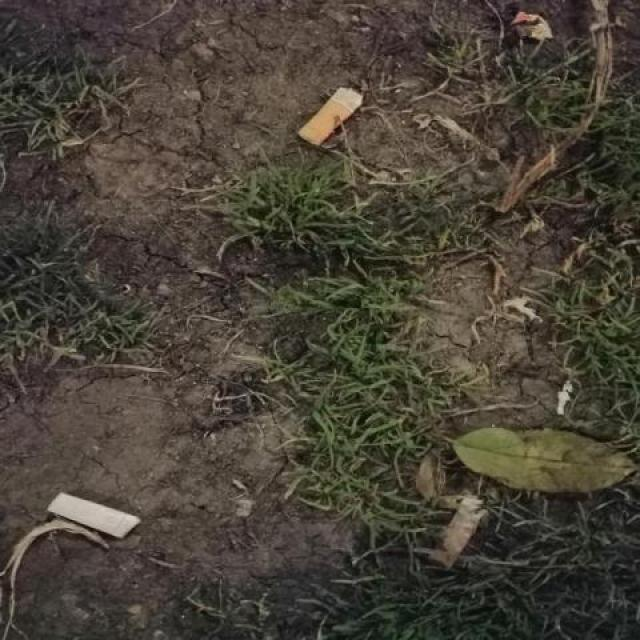non-organic waste: (43, 485, 145, 544), (292, 81, 372, 151)
